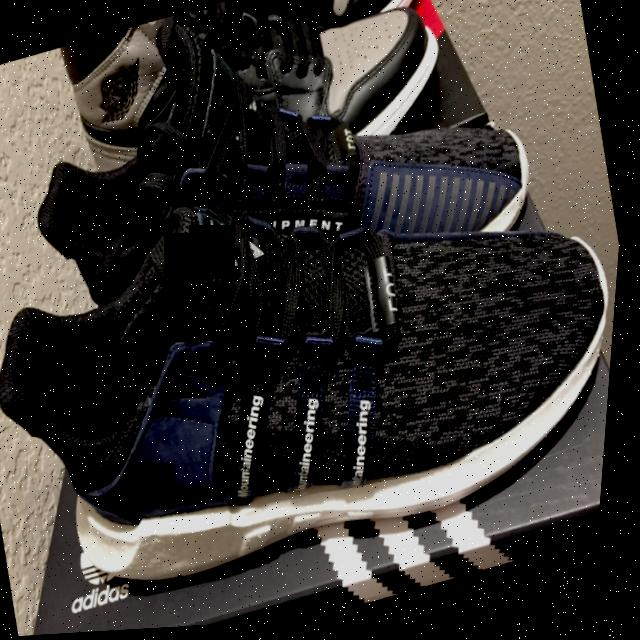shoes: (0, 96, 633, 634), (0, 0, 557, 368), (48, 0, 464, 228)
